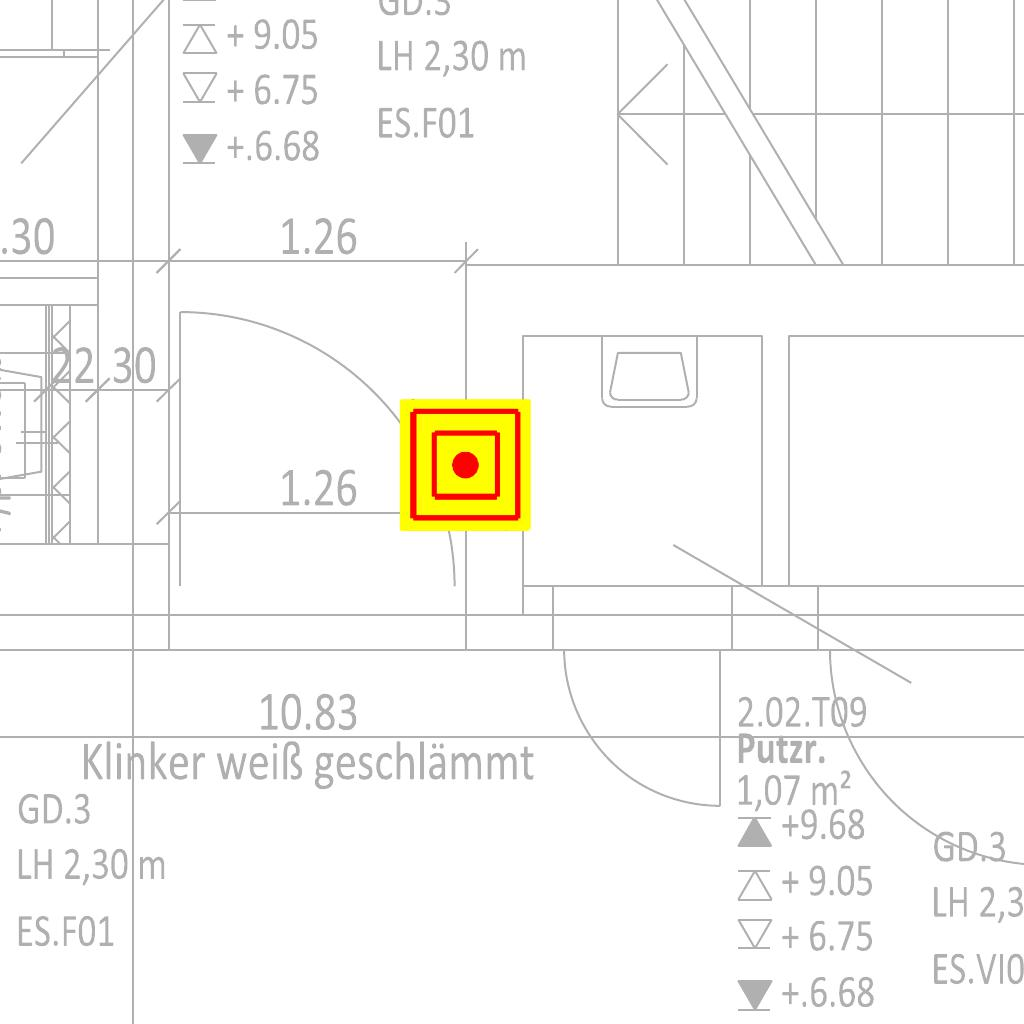NAM-Nichtautomatischer_Melder: (399, 399, 531, 531)
